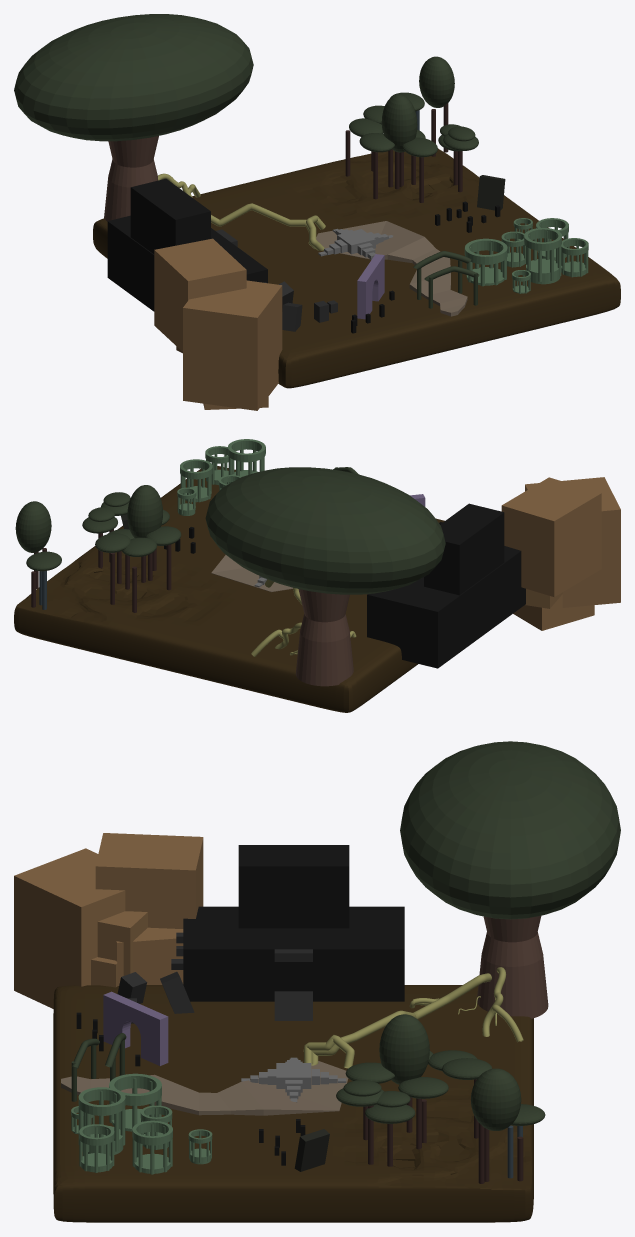
3 renders of one model, top to bottom at view 1: azimuth 30°, elevation 25°; view 2: azimuth 150°, elevation 25°; view 3: azimuth 270°, elevation 25°, orthographic. The views are drawn at different scales.
Parts seen in each view (by area): view 1: TERRAIN, Sphere, Montaña2, Montaña5, Big_Temple_2, Big_Temple_1, Main_Path, BaseBIGArbol, Small_Temple2, Sphere.009, Sphere.005, ARCO (+6 smaller); view 2: TERRAIN, Sphere, Big_Temple_1, Montaña5, Big_Temple_2, BaseBIGArbol, Montaña2, Sphere.009, Sphere.005, Montaña1, Small_Temple1, Main_Path (+8 smaller); view 3: TERRAIN, Sphere, Big_Temple_1, Montaña2, Big_Temple_2, Montaña5, Main_Path, BaseBIGArbol, ARCO, Sphere.009, Montaña4, Sphere.005 (+16 smaller).
Part boxes in pixels (x1,y1,x2,y2): TERRAIN: (93, 148, 620, 388); Sphere: (14, 14, 253, 141); Montaña2: (183, 280, 282, 410); Montaña5: (154, 238, 246, 351); Big_Temple_2: (130, 178, 210, 254); Big_Temple_1: (107, 215, 267, 311); Main_Path: (312, 221, 467, 316); BaseBIGArbol: (104, 136, 158, 221); Small_Temple2: (464, 238, 507, 286); Sphere.009: (381, 94, 417, 152); Sphere.005: (419, 56, 454, 107); ARCO: (357, 254, 384, 319); TERRAIN: (14, 466, 444, 712); Sphere: (205, 467, 445, 594); Big_Temple_1: (367, 546, 525, 668); Montaña5: (501, 477, 601, 596); Big_Temple_2: (424, 503, 504, 595); BaseBIGArbol: (295, 589, 353, 686); Montaña2: (525, 477, 620, 607); Sphere.009: (127, 485, 162, 537); Sphere.005: (15, 501, 51, 552); Montaña1: (513, 594, 594, 630); Small_Temple1: (180, 459, 212, 502); Main_Path: (211, 555, 292, 592); TERRAIN: (53, 985, 533, 1222); Sphere: (400, 741, 620, 919); Big_Temple_1: (183, 906, 404, 1001); Montaña2: (14, 848, 125, 1008); Big_Temple_2: (238, 845, 349, 928); Montaña5: (95, 833, 203, 928); Main_Path: (61, 1061, 348, 1115); BaseBIGArbol: (477, 916, 548, 1018); ARCO: (103, 991, 168, 1065); Sphere.009: (379, 1014, 429, 1084); Montaña4: (116, 927, 183, 985); Sphere.005: (470, 1068, 521, 1130).
Bounding box in the file's own units: 5155 × 2627 × 5044.
